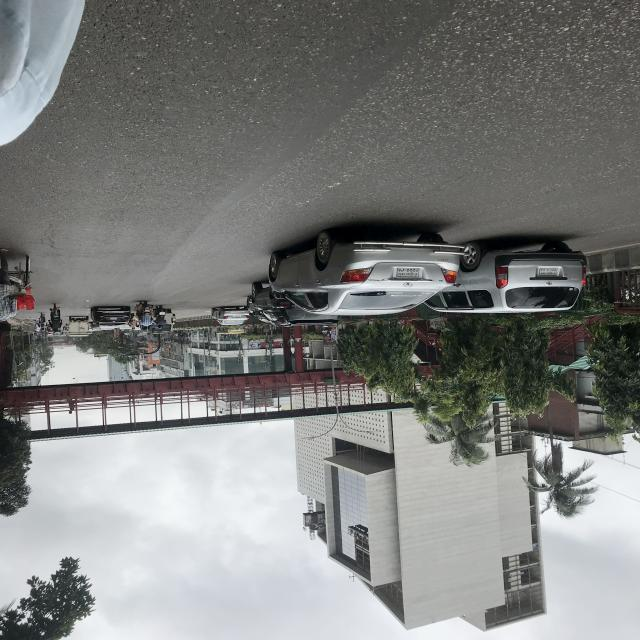silver: (271, 223, 464, 316), (428, 245, 594, 315)
